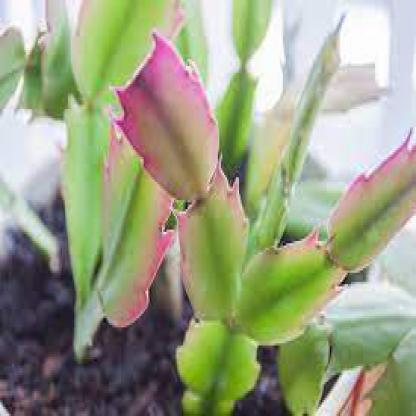Aglonema: (151, 51, 369, 324)
